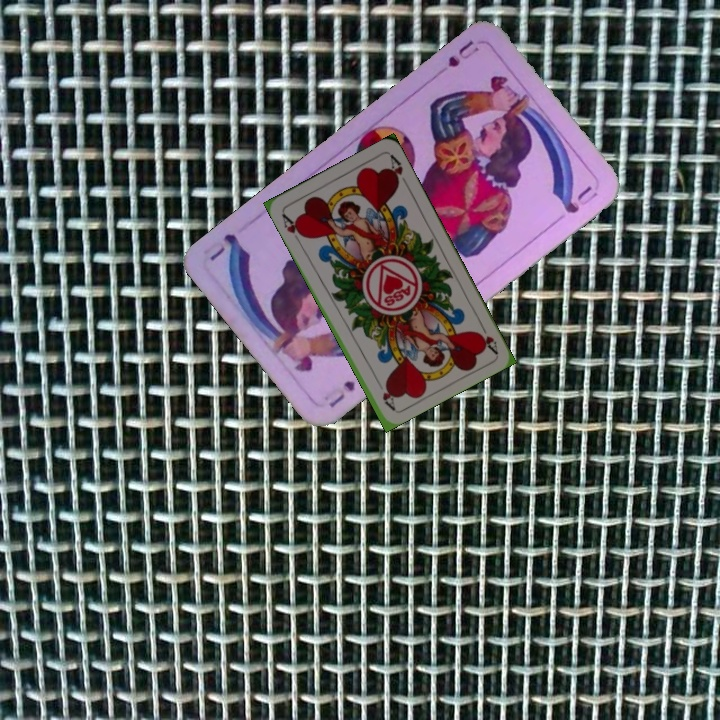HA: (278, 209, 307, 245), (473, 318, 500, 356)
SU: (443, 36, 482, 70), (324, 376, 358, 411)
